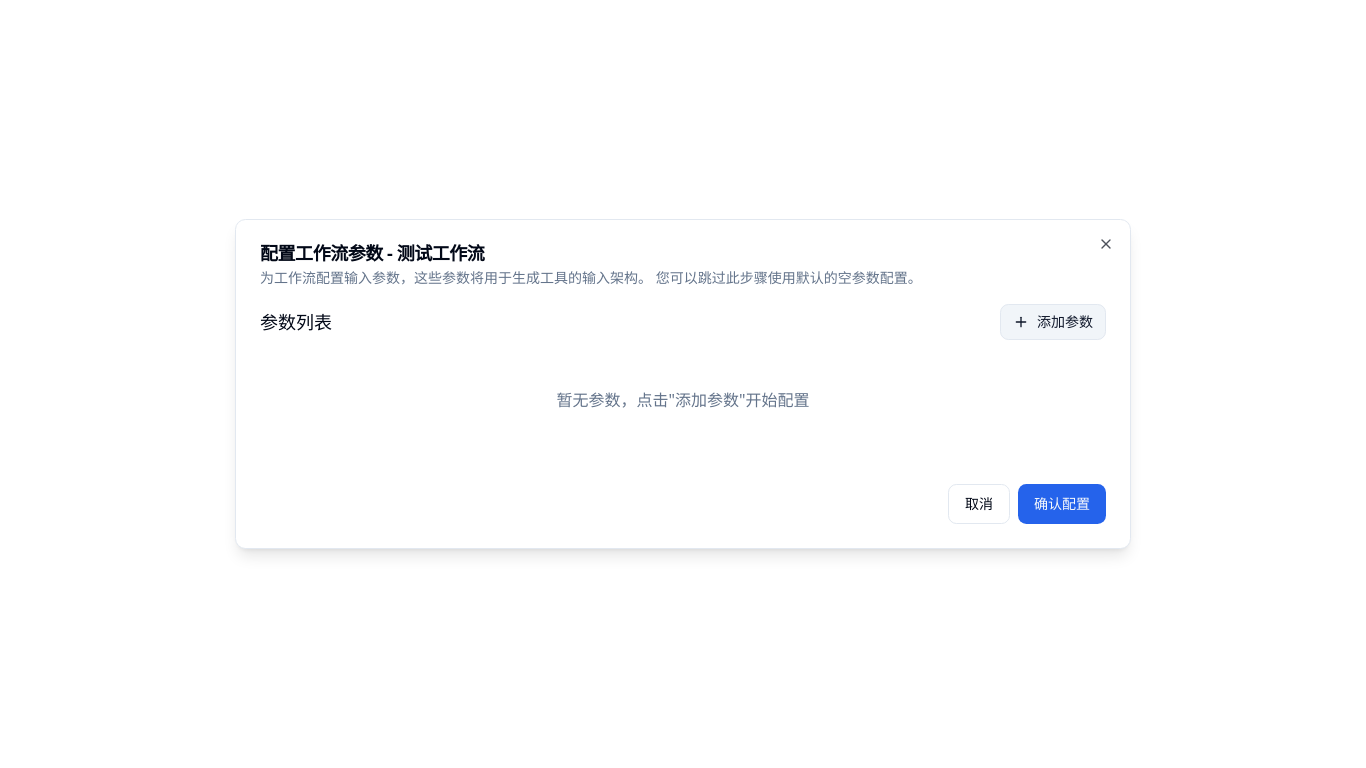
it: WorkflowParameterConfigDialog › 应该能够添加参数
Click the button "添加参数": (1053, 322) [1000,304,1106,340]
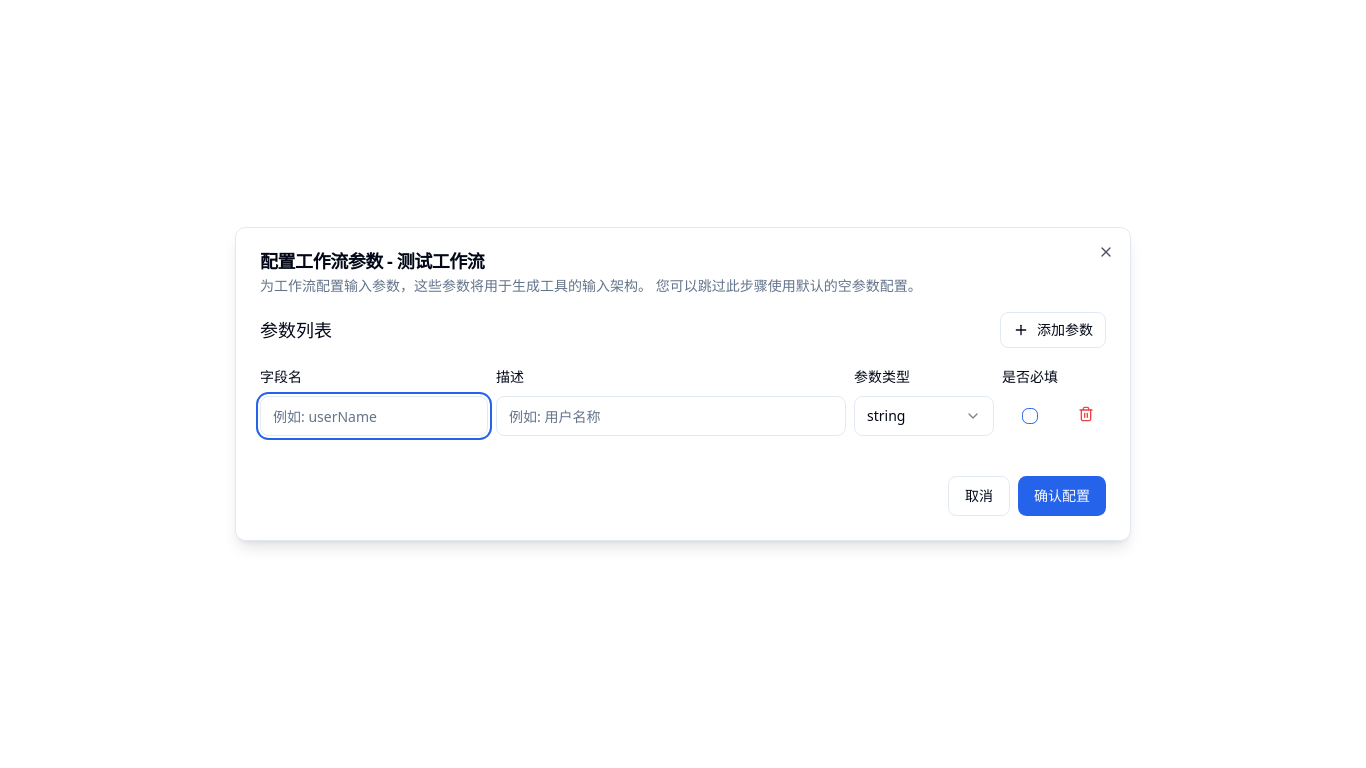
Check: the field with placeholder "例如: userName" is shown, box [260,396,488,436]
Check: the field with placeholder "例如: 用户名称" is shown, box [496,396,846,436]
Check: the text "参数类型" is shown, box [854,367,910,386]
